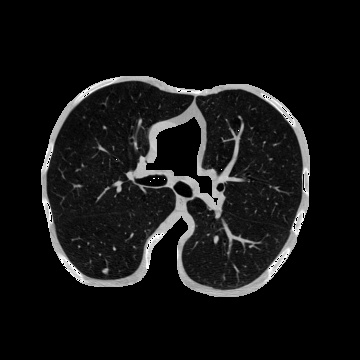PN: (102, 268, 108, 274)
